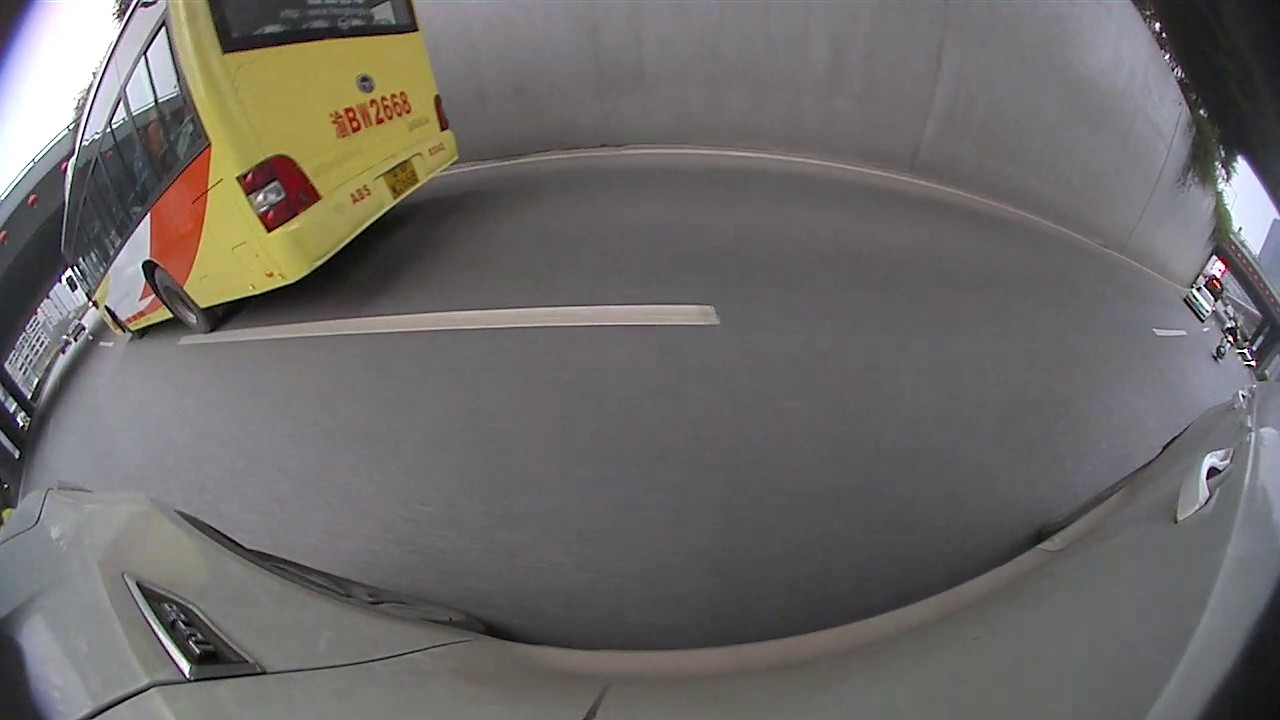bus: (61, 1, 463, 337)
car: (1184, 282, 1217, 320)
front: (103, 300, 144, 344)
rear: (146, 260, 214, 340)
rider: (1213, 324, 1241, 363)
